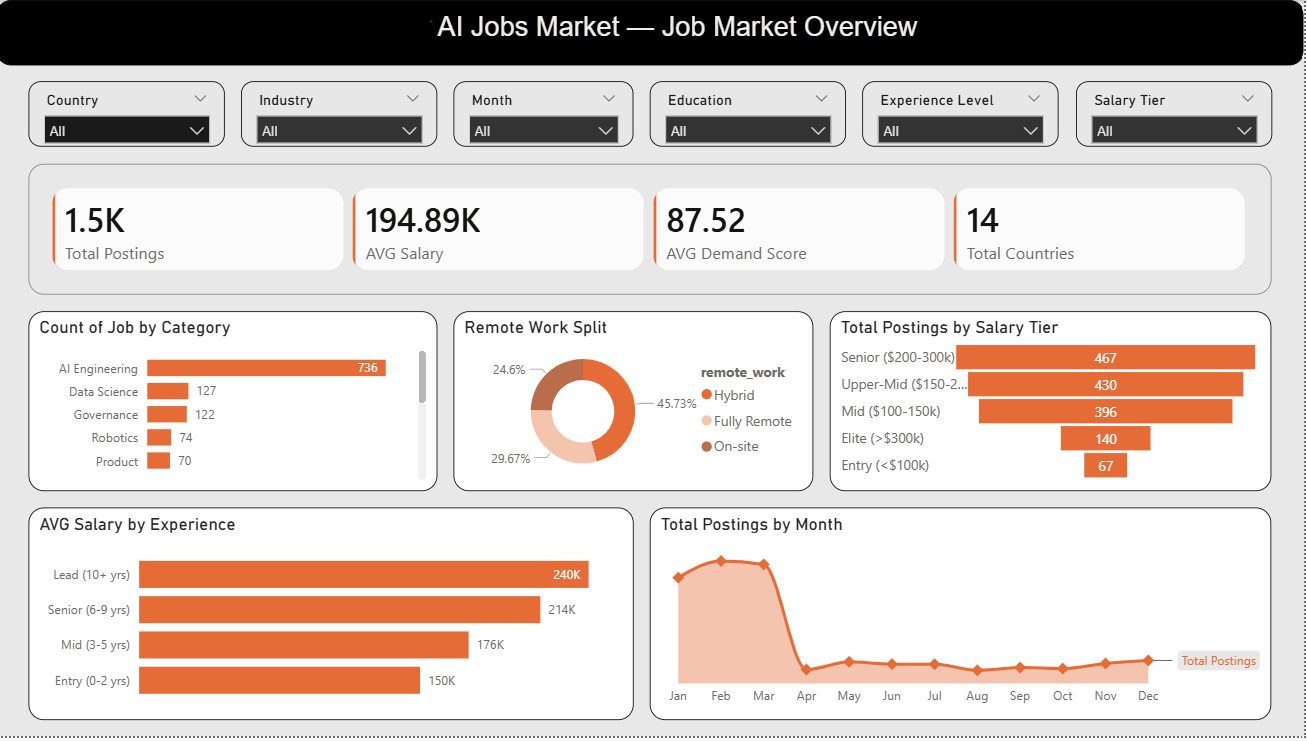

This screenshot's page, from the dashboard's own definition file:
{"tool":"powerbi","page":{"name":"Job Market Overview","canvas":[1280,720],"ordinal":0},"visuals":[{"type":"cardVisual","fields":{"Data":["Measures Table.Total Postings","Measures Table.AVG Salary","Measures Table.AVG Demand Score","Measures Table.Total Countries"]},"box":[32,160,1216,128],"z":0},{"type":"barChart","title":"Count of Job by Category","fields":{"Category":["dw Dim_JobCategory.job_category"],"Y":["CountNonNull(dw Fact_JobPostings.job_id)"]},"box":[32,304,400,176],"z":1000},{"type":"donutChart","title":"Remote Work Split","fields":{"Y":["CountNonNull(dw Fact_JobPostings.job_id)"],"Category":["dw Dim_RemoteWork.remote_work"]},"box":[448,304,352,176],"z":2000},{"type":"barChart","title":"AVG Salary by Experience","fields":{"Category":["dw Dim_Experience.experience_level"],"Y":["Measures Table.AVG Salary"]},"box":[32,496,592,208],"z":3000},{"type":"textbox","box":[0,0,1280,64],"z":5000},{"type":"slicer","fields":{"Values":["dw Dim_Country.country"]},"box":[32,80,192,64],"z":6000},{"type":"slicer","fields":{"Values":["dw Dim_Industry.industry"]},"box":[240,80,192,64],"z":7000},{"type":"slicer","fields":{"Values":["dw Dim_Experience.experience_level"]},"box":[848,80,192,64],"z":8000},{"type":"slicer","fields":{"Values":["dw Dim_SalaryTier.salary_tier"]},"box":[1056,80,192,64],"z":9000},{"type":"slicer","fields":{"Values":["dw Dim_Date.month_name"]},"box":[448,80,176,64],"z":10000},{"type":"slicer","fields":{"Values":["dw Dim_Education.education_required"]},"box":[640,80,192,64],"z":11000},{"type":"funnel","title":"Total Postings by Salary Tier","fields":{"Category":["dw Dim_SalaryTier.salary_tier"],"Y":["Measures Table.Total Postings"]},"box":[816,304,432,176],"z":12000},{"type":"lineChart","title":"Total Postings by Month","fields":{"Y":["Measures Table.Total Postings"],"Category":["dw Dim_Date.month_name_sorted"]},"box":[640,496,608,208],"z":12001}]}

Visuals, with their boxes in screenshot pixels (x1, y1, x2, y2), scaled from the page's 1280x720 canvas onto the 1307x741 screenshot:
cardVisual - Measures Table.Total Postings x Measures Table.AVG Salary: [33, 165, 1274, 296]
"Count of Job by Category" barChart: [33, 313, 441, 494]
"Remote Work Split" donutChart: [457, 313, 817, 494]
"AVG Salary by Experience" barChart: [33, 510, 637, 725]
textbox: [0, 0, 1306, 66]
slicer - dw Dim_Country.country: [33, 82, 229, 148]
slicer - dw Dim_Industry.industry: [245, 82, 441, 148]
slicer - dw Dim_Experience.experience_level: [866, 82, 1062, 148]
slicer - dw Dim_SalaryTier.salary_tier: [1078, 82, 1274, 148]
slicer - dw Dim_Date.month_name: [457, 82, 637, 148]
slicer - dw Dim_Education.education_required: [654, 82, 850, 148]
"Total Postings by Salary Tier" funnel: [833, 313, 1274, 494]
"Total Postings by Month" lineChart: [654, 510, 1274, 725]
